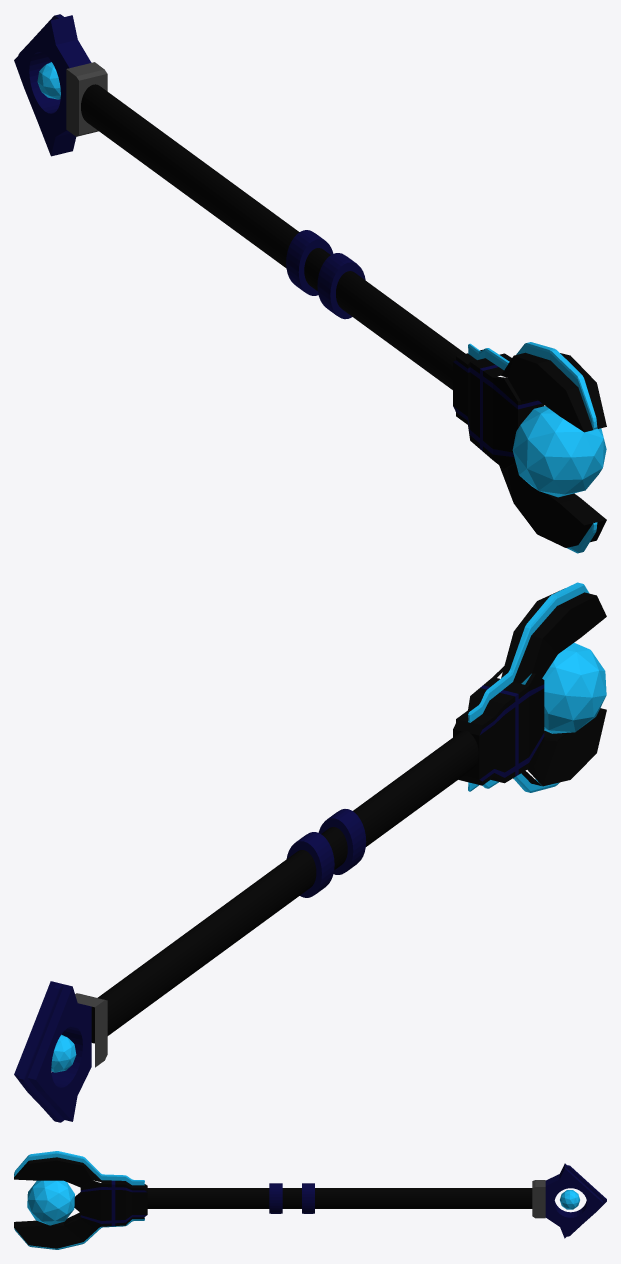
File: sc_fi_melee_weapon_sci_fi_magic_wand.glb
The picture shows the model from 3 angles, top to bottom: view 1: azimuth 30°, elevation 25°; view 2: azimuth 150°, elevation 25°; view 3: azimuth 270°, elevation 25°; orthographic projection. The views are drawn at different scales.
Visible parts, largest first — view 1: Cube.075; view 2: Cube.075; view 3: Cube.075.
Part boxes in pixels (x1,y1,x2,y2): Cube.075: (14,14,606,553); Cube.075: (14,582,606,1122); Cube.075: (14,1151,606,1249).
Size of the model in its own units: 0.3058 by 0.6937 by 3.82.
